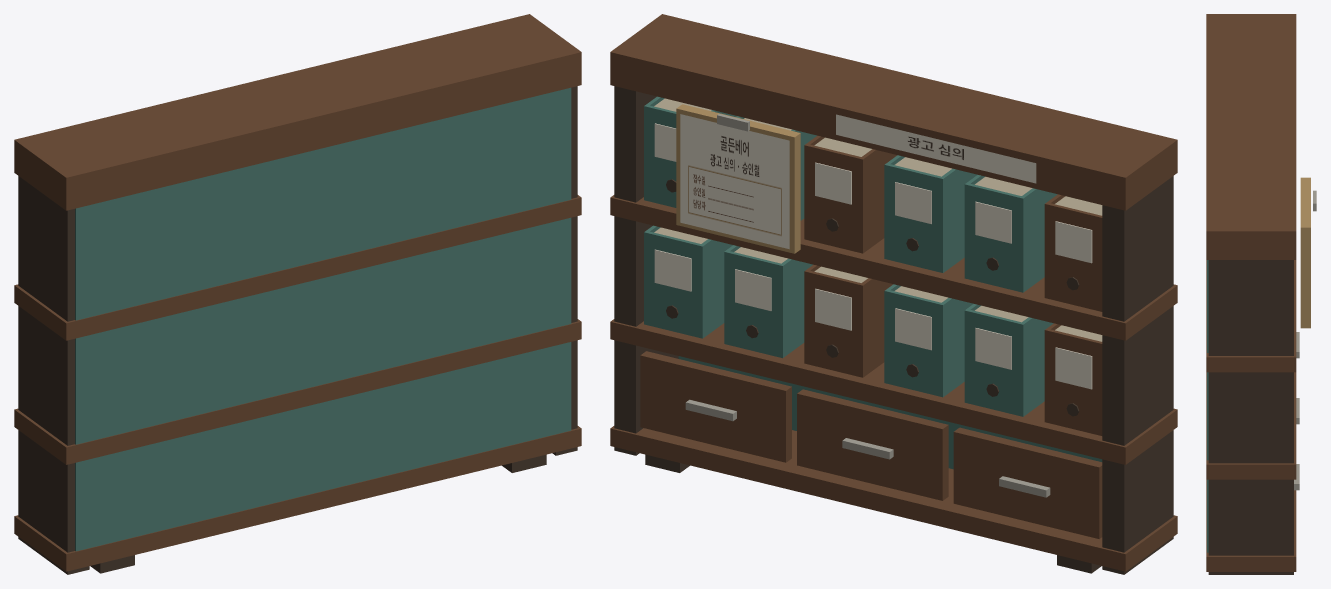
Rendered from W03_Advertising_Review_Cabinet.fbx.
3 views of the same model, side by side, from view 1: azimuth 30°, elevation 25°; view 2: azimuth 150°, elevation 25°; view 3: azimuth 270°, elevation 25° (orthographic). The views are drawn at different scales.
Parts seen in each view (by area): view 1: Structure; view 2: Structure, Files, GoldenBear_Approval; view 3: Structure, GoldenBear_Approval.
Boxes of the visible parts, left/top/right/bottom form: Structure: left=14, top=14, right=581, bottom=574; Structure: left=610, top=14, right=1177, bottom=574; Files: left=644, top=96, right=1102, bottom=435; GoldenBear_Approval: left=676, top=104, right=800, bottom=253; Structure: left=1206, top=14, right=1299, bottom=574; GoldenBear_Approval: left=1300, top=177, right=1316, bottom=328.
Bounding box in the file's own units: 2.8 × 2.1 × 0.6.
Materials: 8 (1 with a texture image).
